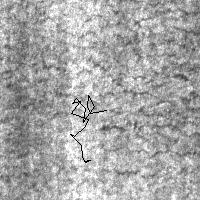crazing: (8, 16, 200, 111), (99, 120, 200, 174), (70, 95, 106, 162)
